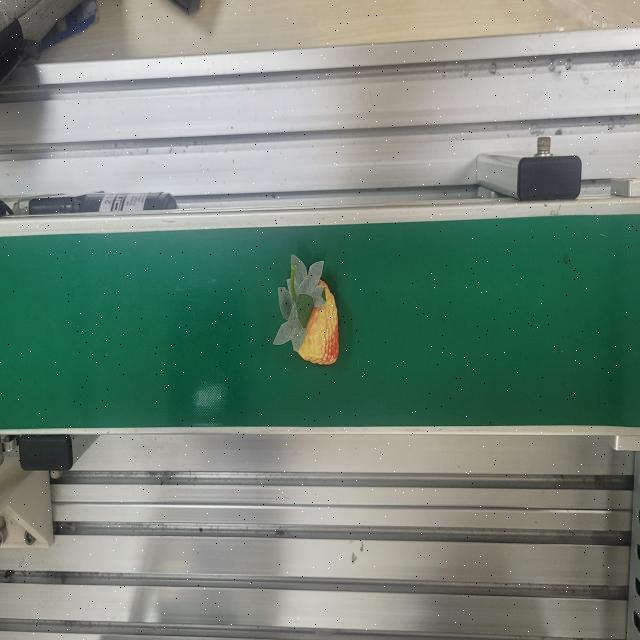Moldy Strawberry: (272, 249, 342, 370)
